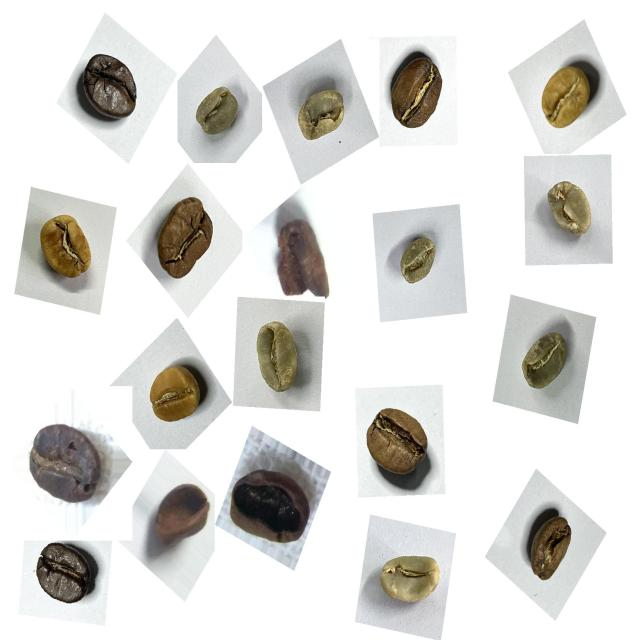bad: (226, 452, 316, 557), (24, 413, 110, 513), (265, 210, 335, 308), (150, 470, 216, 554)
dark: (76, 40, 154, 134), (28, 536, 104, 616)
green: (371, 535, 449, 619), (244, 309, 312, 405), (513, 314, 580, 404), (530, 169, 602, 252), (287, 74, 355, 154), (185, 76, 248, 150), (389, 222, 446, 297)
light: (30, 196, 106, 292), (140, 346, 218, 436), (530, 49, 604, 143)
medium: (145, 191, 225, 293), (379, 46, 453, 146), (357, 398, 437, 488), (518, 502, 588, 594)
